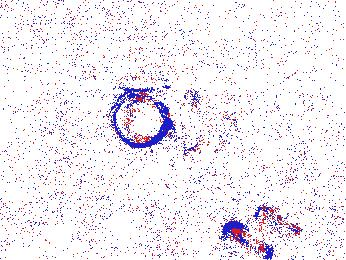flame jellyfish: (217, 205, 302, 260), (114, 91, 175, 151), (34, 217, 92, 260)
